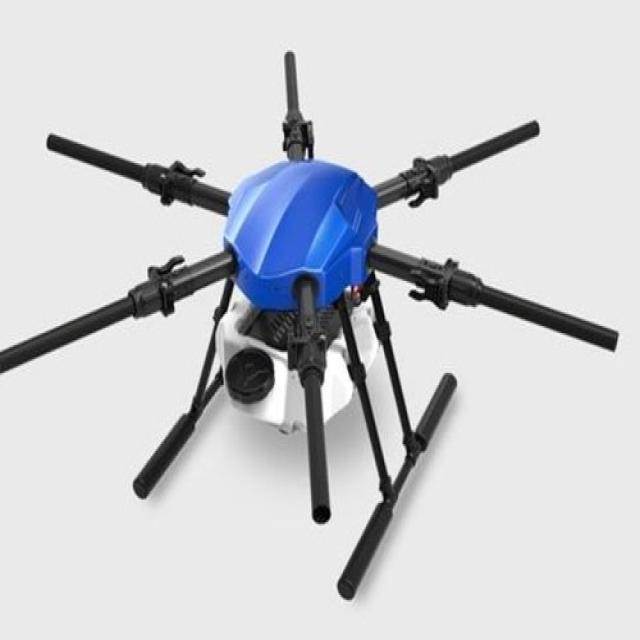drone: (14, 38, 611, 579)
